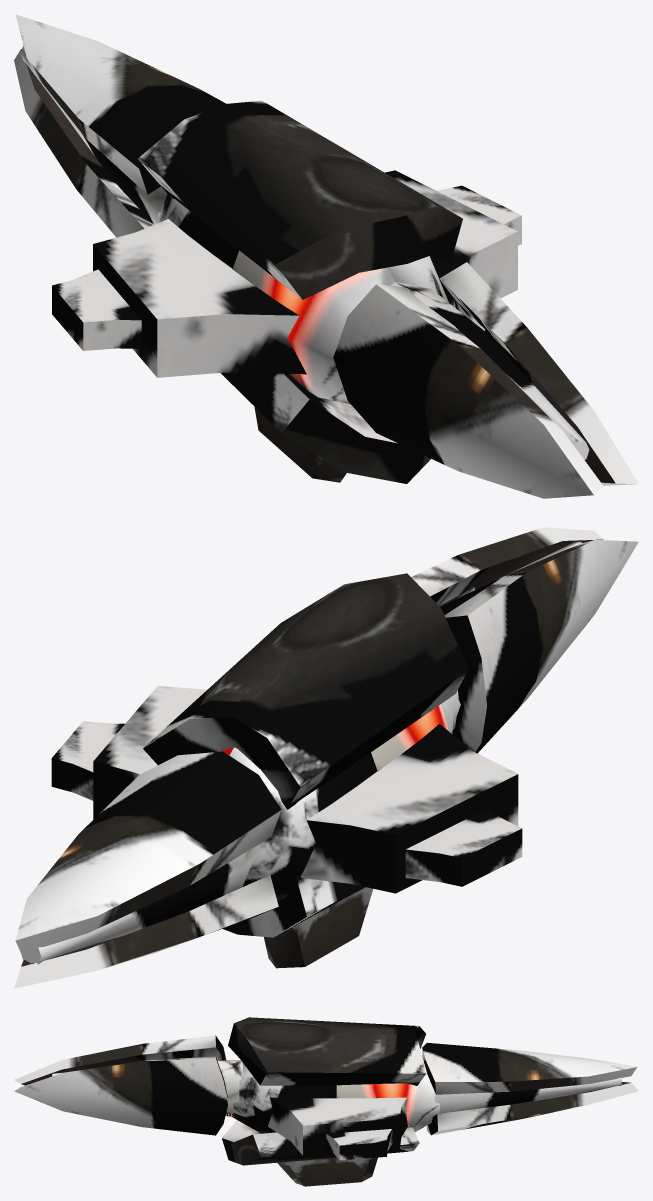
Rendered from Monk.fbx.
The picture shows the model from 3 angles, top to bottom: view 1: azimuth 30°, elevation 25°; view 2: azimuth 150°, elevation 25°; view 3: azimuth 270°, elevation 25°; orthographic projection. The views are drawn at different scales.
Parts seen in each view (by area): view 1: Monk; view 2: Monk; view 3: Monk.
Part boxes in pixels (x1,y1,x2,y2): Monk: (14,14,638,498); Monk: (14,527,638,988); Monk: (14,1017,638,1186).
Bounding box in the file's own units: 32.79 × 22.06 × 77.96.
1 material, 1 textured.
